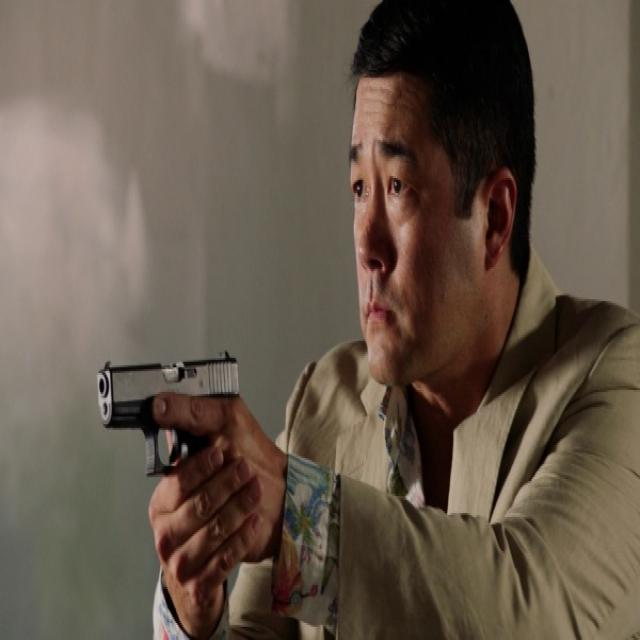weapons: (83, 328, 269, 558)
